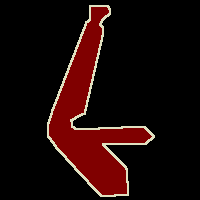tie: (48, 6, 154, 196)
